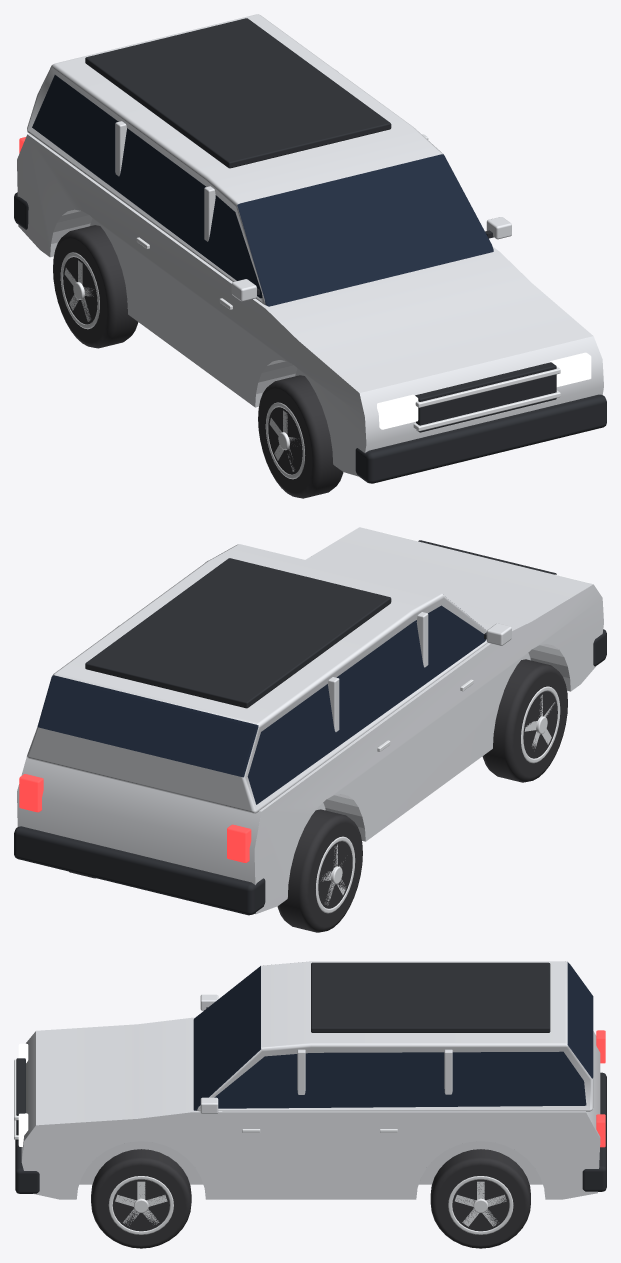
Rendered from suv.glb.
3 views of the same model, one above another, from view 1: azimuth 30°, elevation 25°; view 2: azimuth 150°, elevation 25°; view 3: azimuth 270°, elevation 25° (orthographic). The views are drawn at different scales.
Visible parts, largest first — view 1: body_paint, body_trim, wheel_RR, wheel_FR; view 2: body_paint, body_trim, wheel_RR, wheel_FR; view 3: body_paint, body_trim, wheel_RL, wheel_FL.
Part boxes in pixels (x1,y1,x2,y2): body_paint: [17, 14, 603, 476]; body_trim: [14, 18, 606, 483]; wheel_RR: [53, 225, 138, 348]; wheel_FR: [258, 375, 343, 498]; body_paint: [17, 527, 603, 913]; body_trim: [14, 532, 606, 915]; wheel_RR: [277, 809, 362, 932]; wheel_FR: [482, 659, 567, 782]; body_paint: [21, 961, 600, 1199]; body_trim: [14, 962, 606, 1193]; wheel_RL: [430, 1149, 530, 1248]; wheel_FL: [91, 1149, 191, 1248].
Bounding box in the file's own units: 2.17 × 1.88 × 4.96.
